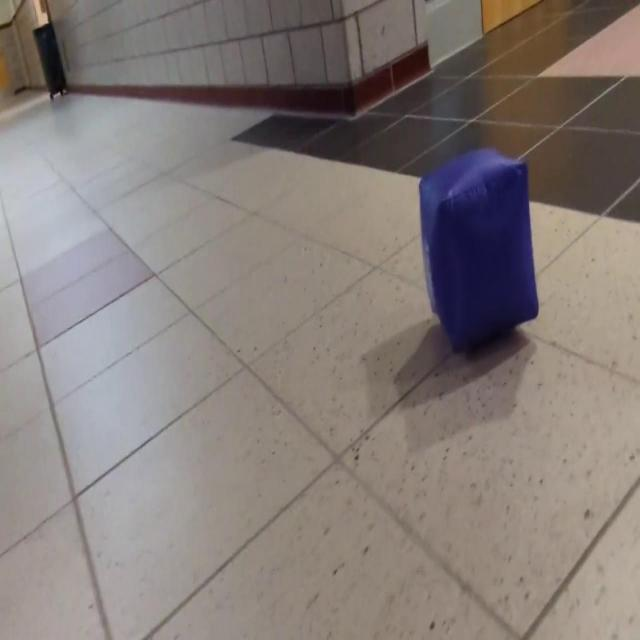frc_cube: (418, 143, 540, 352)
